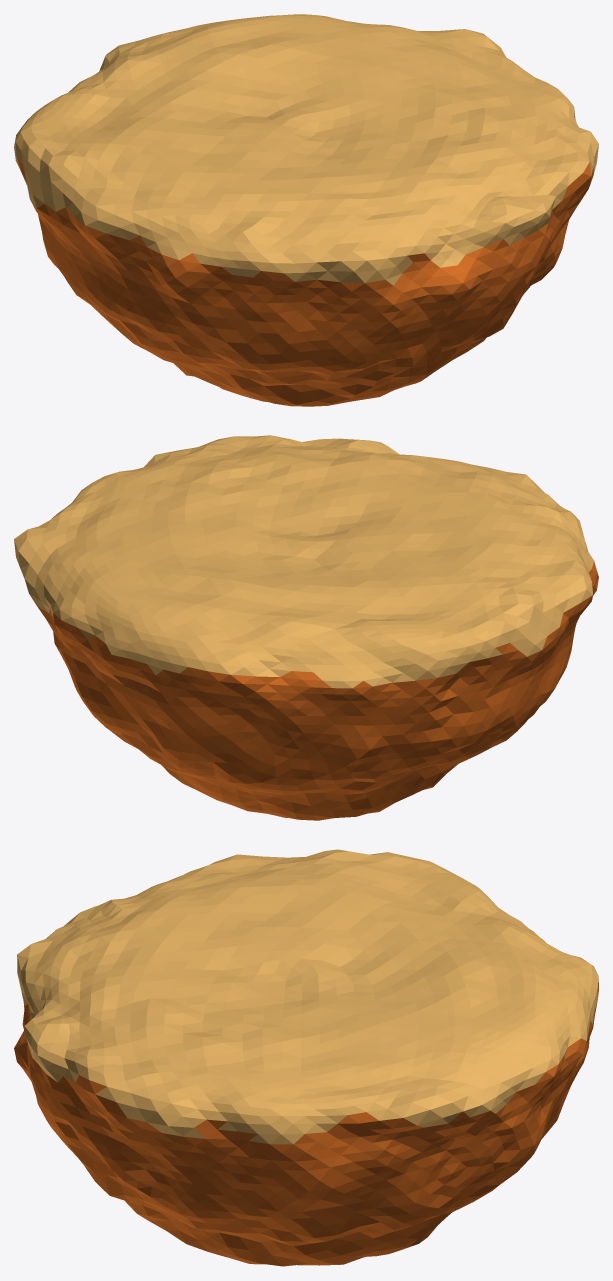
File: Desert_Island_1.fbx
3 renders of one model, top to bottom at view 1: azimuth 30°, elevation 25°; view 2: azimuth 150°, elevation 25°; view 3: azimuth 270°, elevation 25°, orthographic. The views are drawn at different scales.
Visible parts, largest first — view 1: Icosphere.295; view 2: Icosphere.295; view 3: Icosphere.295.
Boxes of the visible parts, x1=… form: Icosphere.295: x1=14, y1=14, x2=598, y2=406; Icosphere.295: x1=14, y1=435, x2=598, y2=820; Icosphere.295: x1=14, y1=849, x2=598, y2=1266.
Bounding box in the file's own units: 4860 × 2507 × 4769.
